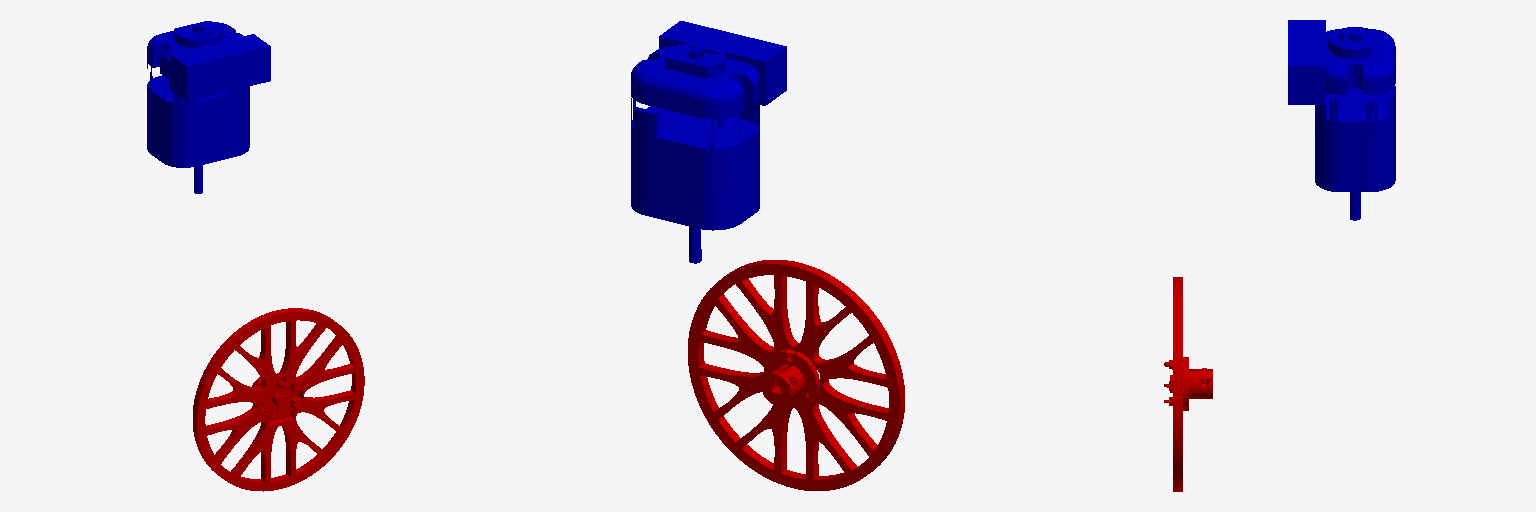
URDF robot description (single_link_arm):
<?xml version="1.0"?>
<robot name="single_link_arm">
  <!-- Materiales para visualización -->
  <material name="blue">
    <color rgba="0 0 0.8 1"/>
  </material>
  <material name="red">
    <color rgba="0.8 0 0 1"/>
  </material>

  <link name="world"/>

  <link name="Motor">
    <visual>
      <origin rpy="0 0 0" xyz="0 0 0"/>
      <geometry>
        <mesh filename="package://mini_challenge_2/models/Motor.stl" scale="1 1 1"/>
      </geometry>
      <material name="blue"/>
    </visual>
    <collision>
      <geometry>
        <box size="0.1 0.1 0.1"/>
      </geometry>
    </collision>
  </link>

  <link name="Wheel">
    <visual>
    <!-- Orientación con Y hacia arriba y Z como eje de giro -->
    <origin rpy="-1.570796 0 0" xyz="0 0 0"/> <!-- -90° en X -->
    <geometry>
      <mesh filename="package://mini_challenge_2/models/Llanta.stl" scale="1 1 1"/>
    </geometry>
    <material name="red"/>
    </visual>
    <collision>
    <geometry>
      <cylinder radius="0.1" length="0.05"/>
    </geometry>
    <origin rpy="-1.570796 0 0" xyz="0 0 0"/> <!-- Misma orientación para colisión -->
    </collision>
  </link>

  <joint name="joint1" type="fixed">
    <origin xyz="0 0 1" rpy="0 0 0"/>
    <parent link="world"/>
    <child link="Motor"/>
  </joint>

 <joint name="joint2" type="continuous">
  <origin xyz="0.041475 0 0" rpy="0 0 0"/>
  <parent link="Motor"/>
  <child link="Wheel"/>
  <axis xyz="0 0 1"/> <!-- Eje Z para giro -->
  </joint>
</robot>

--- Render facts (derived) ---
The picture shows the robot from 3 angles, left to right: view 1: azimuth 30°, elevation 25°; view 2: azimuth 150°, elevation 25°; view 3: azimuth 270°, elevation 25°; orthographic projection.
Model single_link_arm with 3 links and 2 joints (1 continuous, 1 fixed), rooted at world, posed all joints at 0.
Visible links, largest first — view 1: Wheel, Motor; view 2: Motor, Wheel; view 3: Motor, Wheel.
Boxes of the visible links, left/top/right/bottom form: Wheel: left=193, top=308, right=364, bottom=491; Motor: left=147, top=21, right=270, bottom=193; Motor: left=631, top=21, right=786, bottom=263; Wheel: left=688, top=260, right=904, bottom=490; Motor: left=1288, top=20, right=1395, bottom=220; Wheel: left=1164, top=277, right=1212, bottom=491.
Bounding box of the posed robot: 40 × 43 × 92 m (x, y, z).
2 mesh visuals loaded from 2 distinct referenced files (2 binary STL).